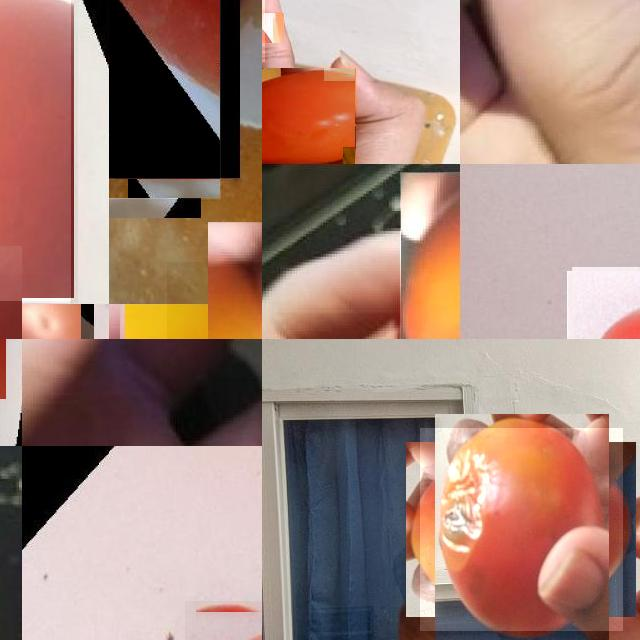0: (262, 68, 355, 164)
1: (420, 428, 623, 631)
Fresh Tomato: (0, 0, 71, 301)
Rotten Tomato: (109, 0, 220, 198), (166, 262, 262, 339)
